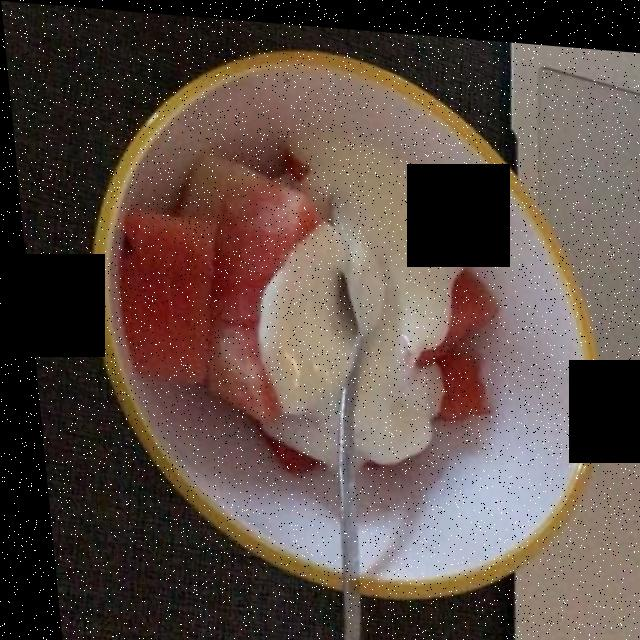watermelon-fresh: (127, 162, 497, 482)
yaourt-yahourt-yogourt-ou-yoghourt-natural: (251, 135, 464, 461)
